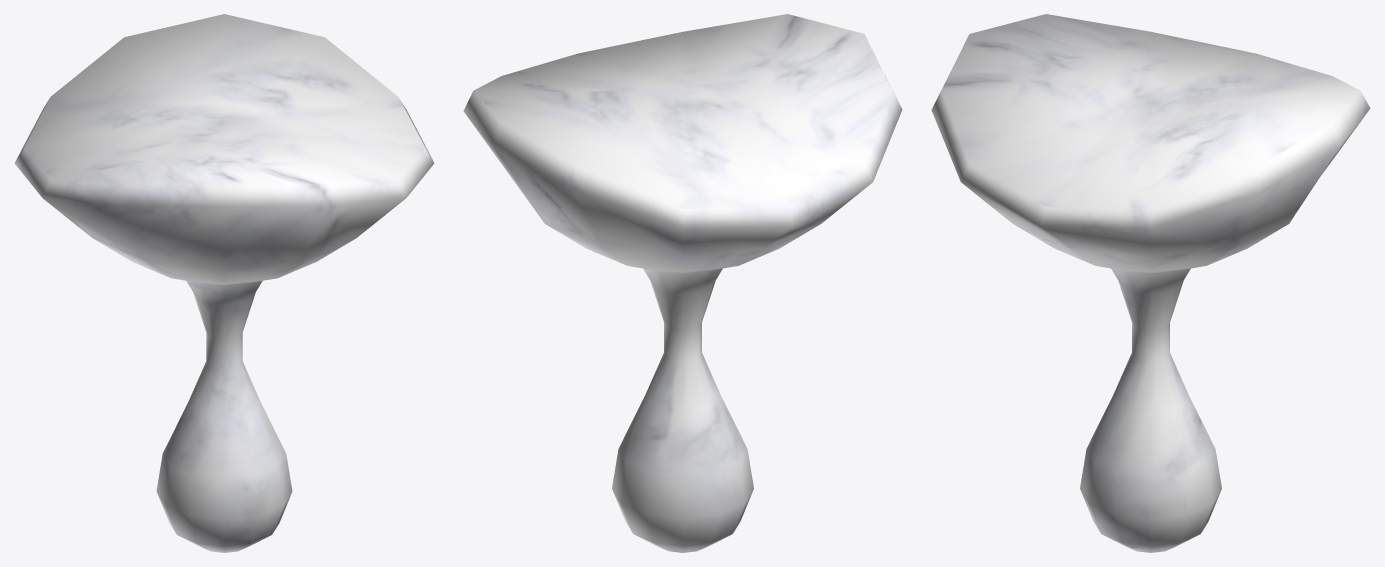
The model's file is Rayceiver_Base.fbx.
The picture shows the model from 3 angles, left to right: view 1: azimuth 30°, elevation 25°; view 2: azimuth 150°, elevation 25°; view 3: azimuth 270°, elevation 25°; orthographic projection. The views are drawn at different scales.
Visible parts, largest first — view 1: Rayceiver_Base; view 2: Rayceiver_Base; view 3: Rayceiver_Base.
Part boxes in pixels (box(x1,y1,x2,y2)): Rayceiver_Base: box(14, 14, 434, 552); Rayceiver_Base: box(463, 14, 902, 552); Rayceiver_Base: box(931, 14, 1370, 552).
Bounding box in the file's own units: 64.91 × 75.96 × 64.91.
